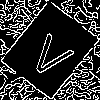V: (25, 25, 81, 82)
